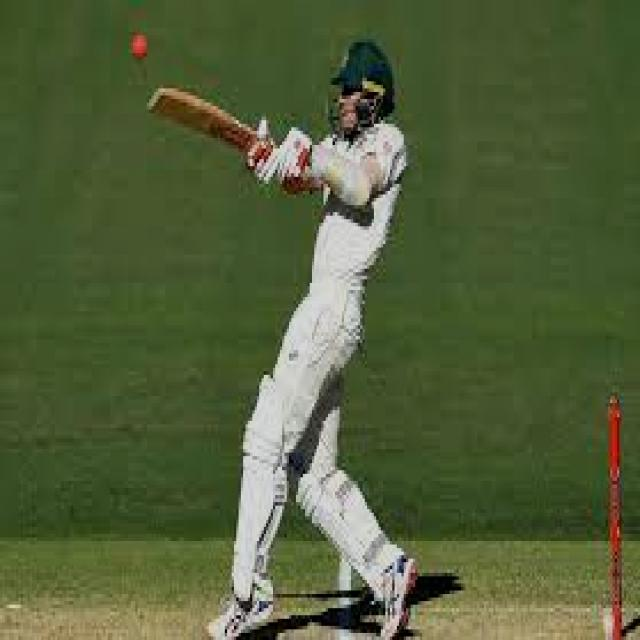toe: (142, 86, 168, 115)
